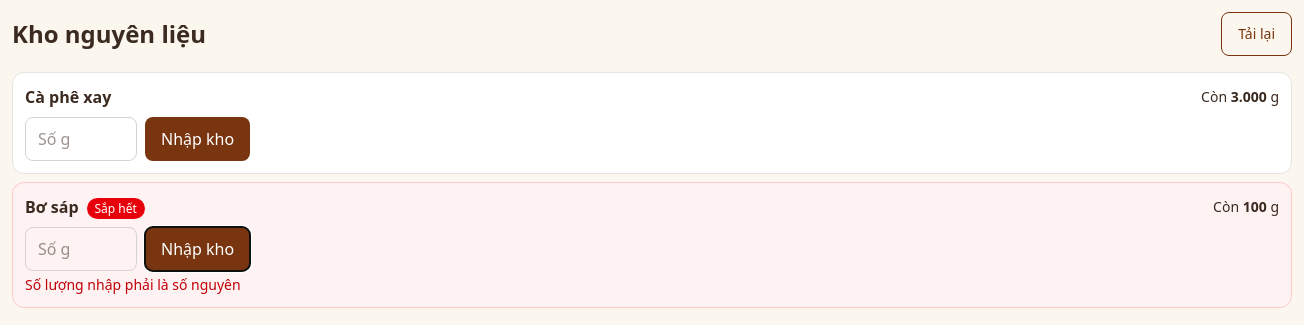
Scenario: Màn hình kho nguyên liệu (CT-63 – CT-66) › CT-64: số lượng không hợp lệ thì báo lỗi ngay, không gọi API
The image size is (1304, 325).
Earlier steps of the test are not shown.
Expected: the message reads "Số lượng nhập phải là số nguyên", [25,275,241,294]
Type "1,5" into the field named "Số lượng nhập Bơ sáp".
click(81, 249); type("1,5")  # box [25,227,137,271]
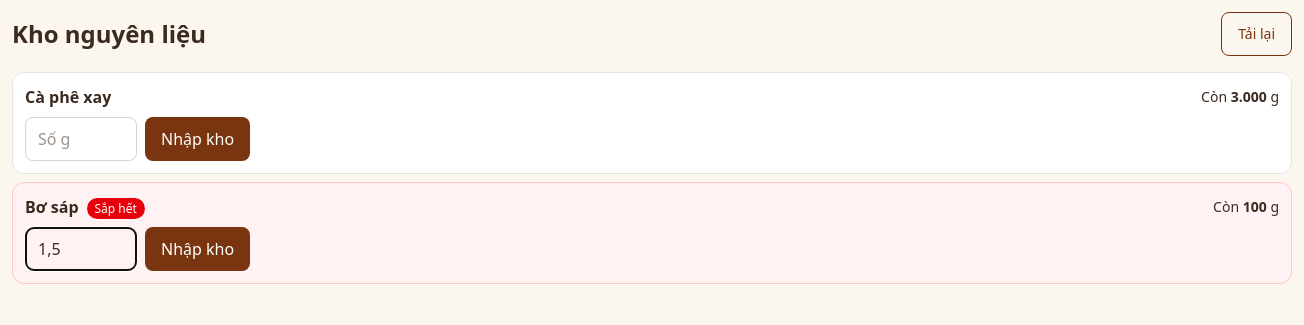
Click the button "Nhập kho" below "Bơ sáp".
click(198, 249)  # box [145,227,250,271]
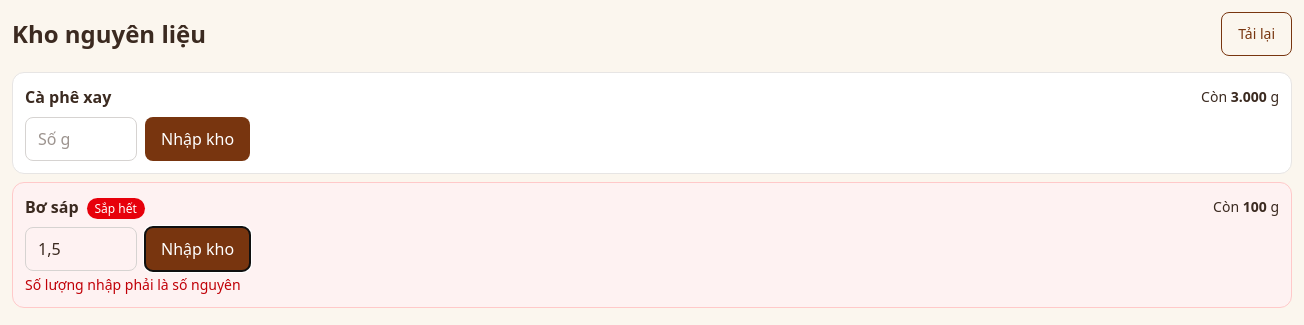
Now the message reads "Số lượng nhập phải là số nguyên", box [25,275,241,294]
Replace the text in the field named "Số lượng nhập Bơ sáp" with "0" at {"x": 81, "y": 249}, box [25,227,137,271]
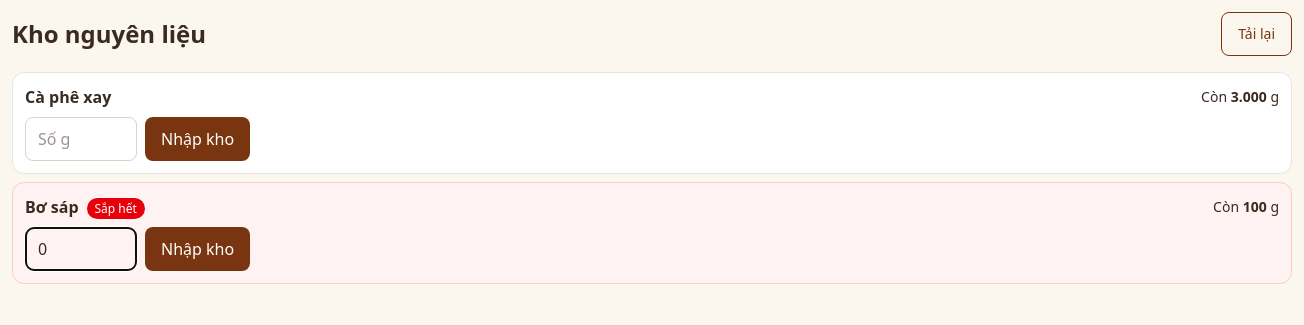
Click the button "Nhập kho" below "Bơ sáp".
click(198, 249)  # box [145,227,250,271]
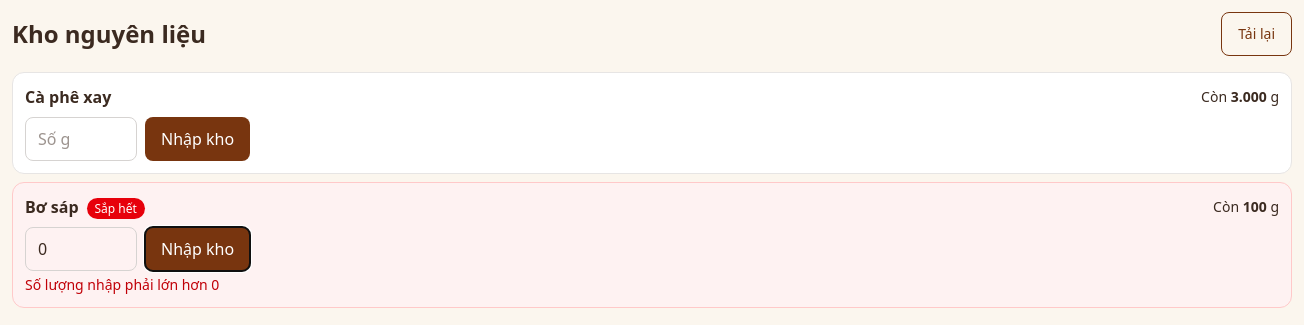
Now the message reads "Số lượng nhập phải lớn hơn 0", box [25,275,219,294]
Replace the text in the field named "Số lượng nhập Bơ sáp" with "2000000" at {"x": 81, "y": 249}, box [25,227,137,271]
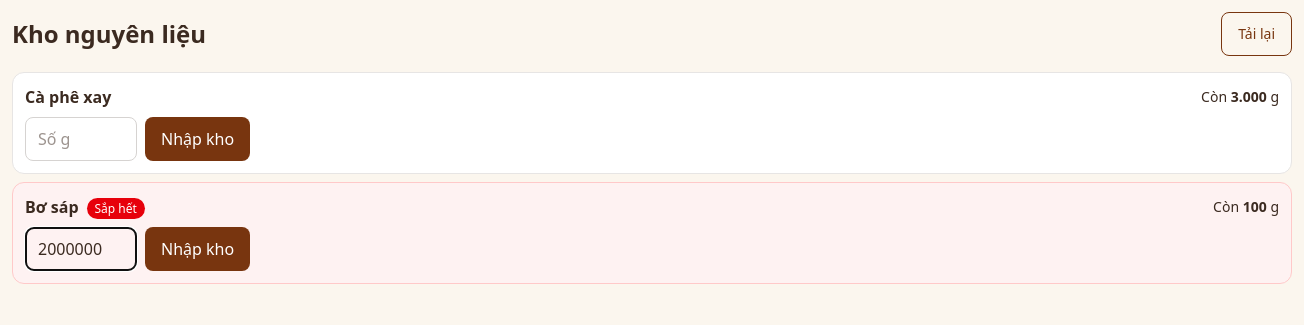
Click the button "Nhập kho" below "Bơ sáp".
click(198, 249)  # box [145,227,250,271]
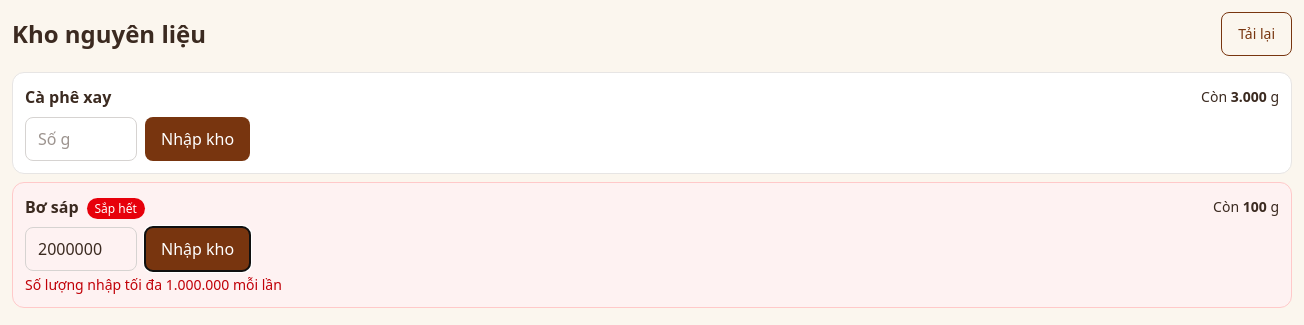
Now the message reads "Số lượng nhập tối đa 1.000.000 mỗi lần", box [25,275,282,294]
